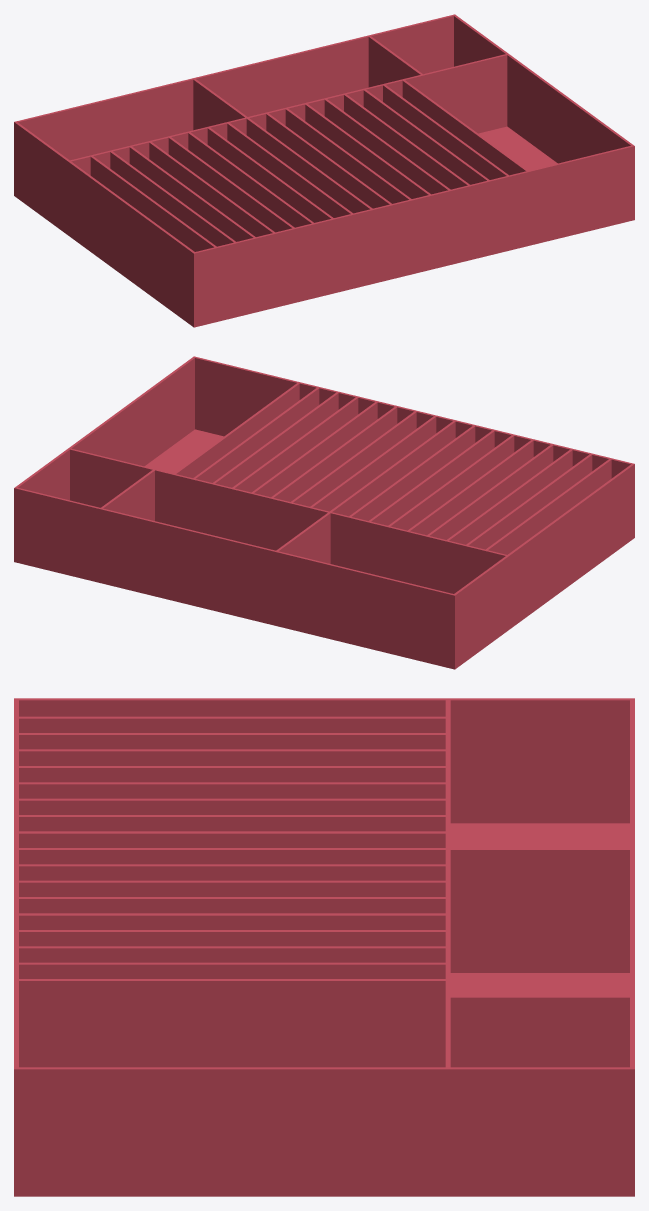
The model's file is Minivilles_Insert.glb.
3 views of the same model, one above another, from view 1: azimuth 30°, elevation 25°; view 2: azimuth 150°, elevation 25°; view 3: azimuth 270°, elevation 25° (orthographic). The views are drawn at different scales.
Parts seen in each view (by area): view 1: Mesh_Mesh_head_geo.001_lambert2SG.001; view 2: Mesh_Mesh_head_geo.001_lambert2SG.001; view 3: Mesh_Mesh_head_geo.001_lambert2SG.001.
Boxes of the visible parts, bbox=[...] form: Mesh_Mesh_head_geo.001_lambert2SG.001: bbox=[14, 14, 634, 327]; Mesh_Mesh_head_geo.001_lambert2SG.001: bbox=[14, 356, 634, 669]; Mesh_Mesh_head_geo.001_lambert2SG.001: bbox=[14, 698, 634, 1196].
Size of the model in its own units: 0.181 by 0.029 by 0.128.
